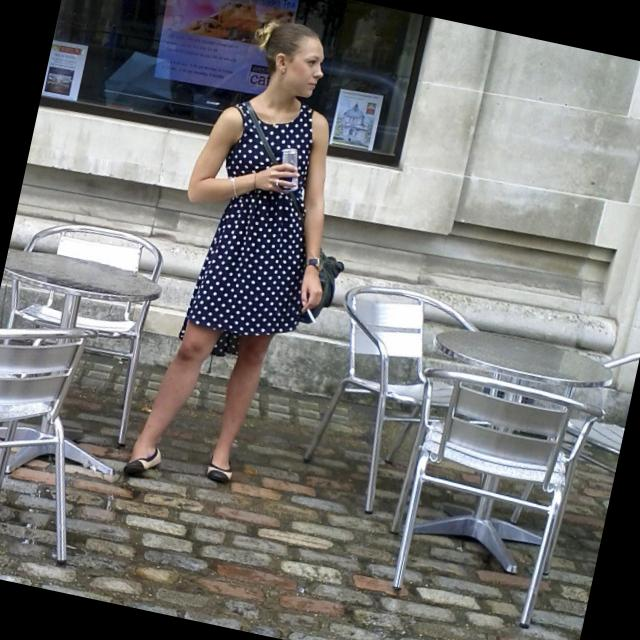smoke: (298, 297, 322, 328)
